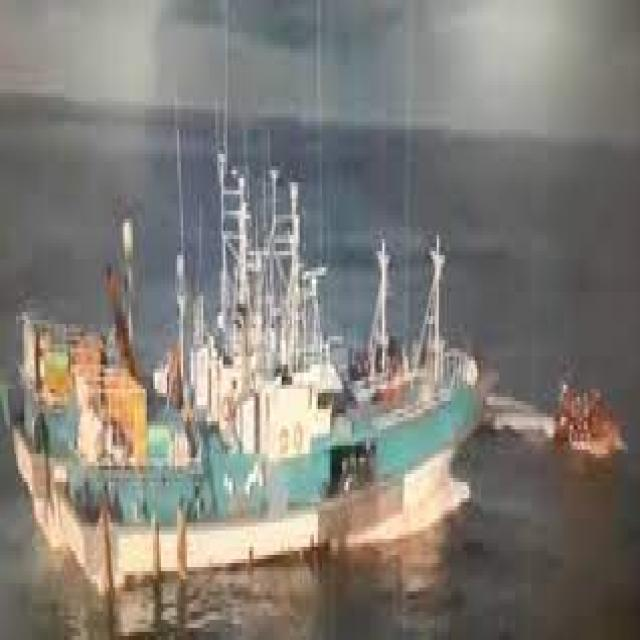Ship: (1, 1, 500, 605)
